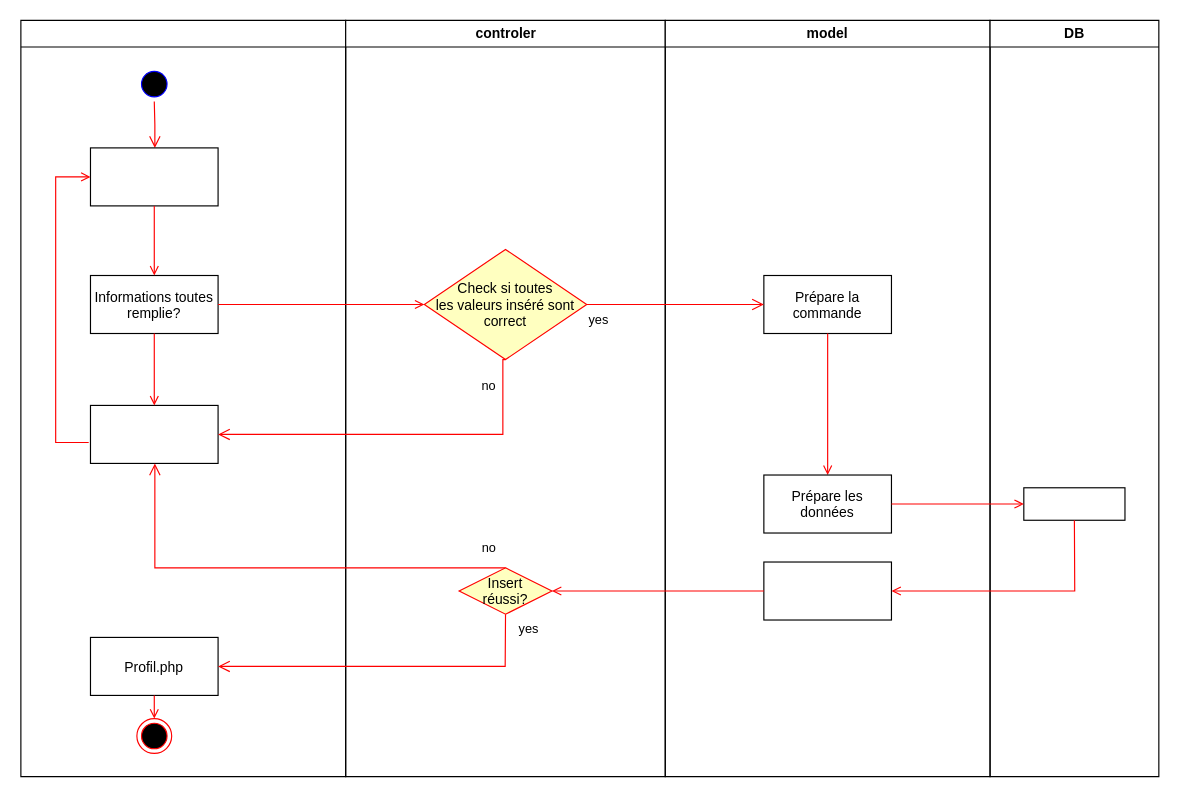
The diagram is 1179 pixels wide and 797 high, and some of its shapes have lost their labels. Each missing label, with the box of its shape:
Fait un insert: (1023, 487, 1125, 520)
Message d'erreur: (89, 404, 218, 463)
Return si insert est true / false: (763, 561, 891, 620)
Submit: Crée un évènement: (89, 147, 218, 206)
view: (20, 19, 346, 777)
